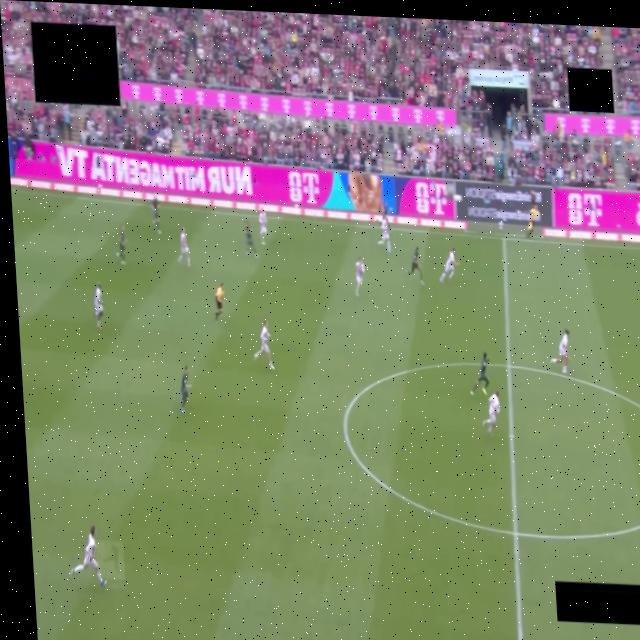player: (70, 526, 105, 586), (253, 321, 273, 370), (550, 329, 569, 374), (470, 353, 488, 396), (483, 391, 499, 434), (439, 248, 459, 282), (405, 247, 423, 284), (353, 257, 367, 298), (377, 213, 390, 253), (244, 223, 258, 258), (115, 225, 127, 265), (180, 366, 190, 413), (178, 227, 189, 267), (93, 283, 102, 329), (258, 208, 266, 245), (152, 197, 160, 234)
referee: (214, 282, 224, 321)
